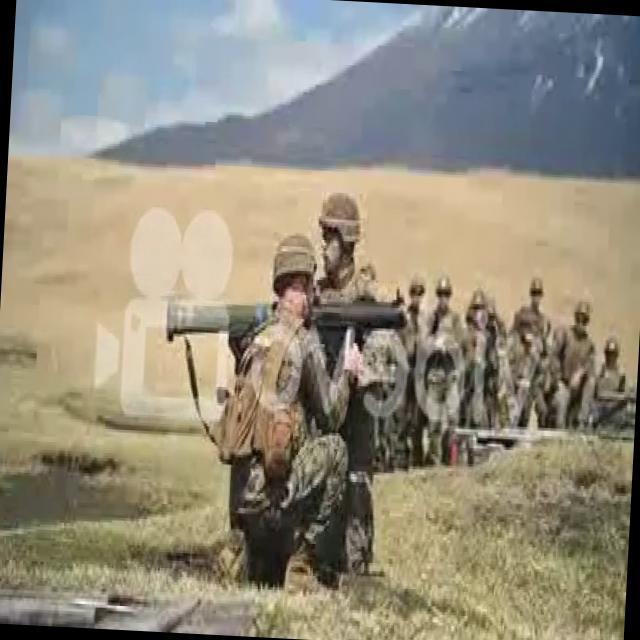rocket: (167, 288, 413, 354)
